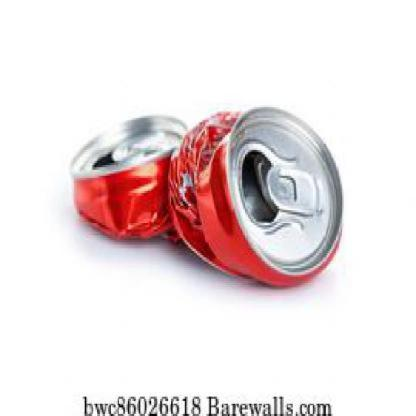Can: (169, 81, 361, 346), (58, 108, 188, 280)
